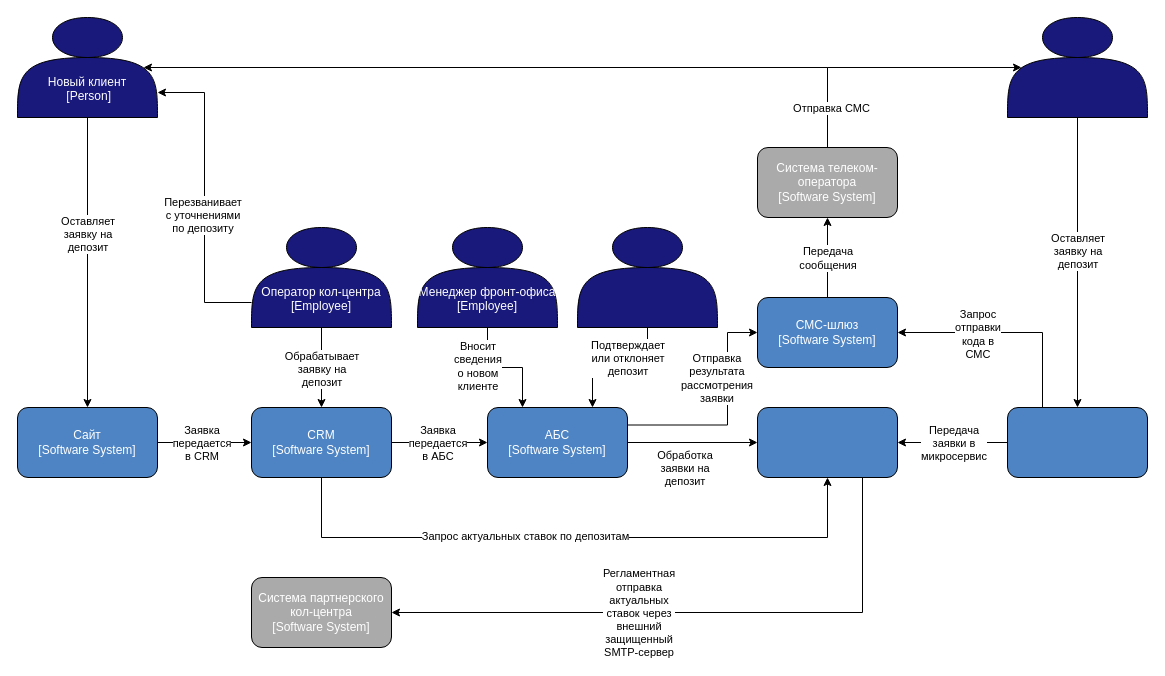
This 1165x676 diagram has some shape labels left out. Each missing label, with the box of its shape:
Интернет-банк [Software System]: (1006, 406, 1148, 478)
Клиент [Person]: (1006, 16, 1148, 118)
Менеджер по депозитам [Employee]: (576, 226, 718, 328)
Микросервис по депозитам [Software System]: (756, 406, 898, 478)
